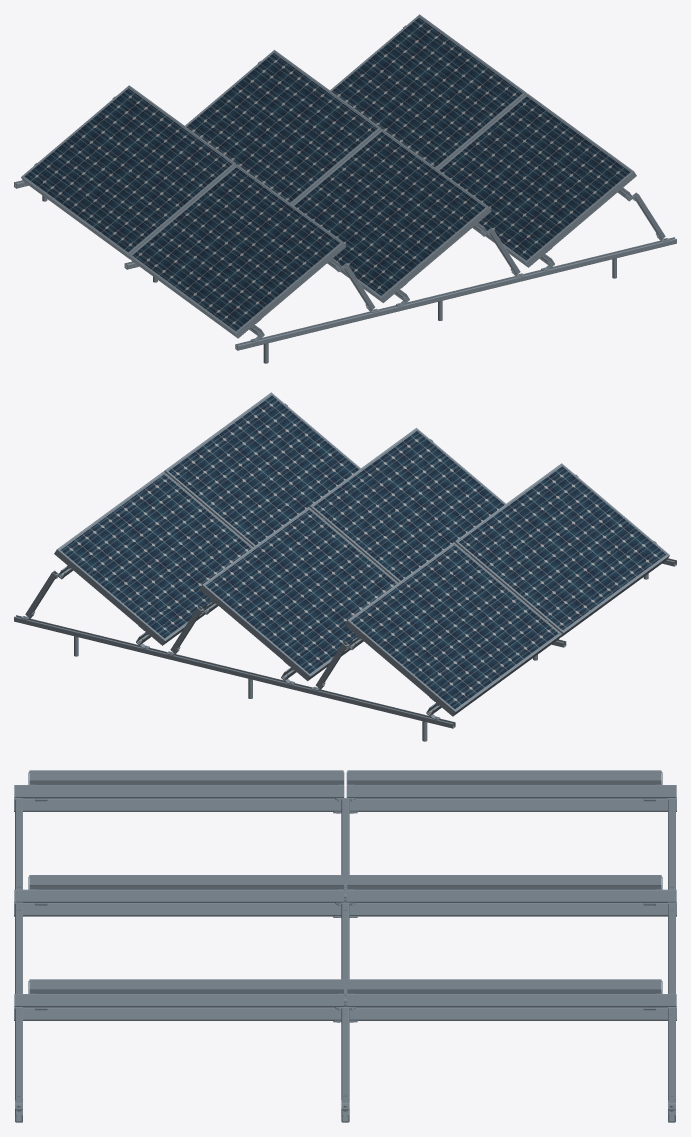
3 renders of one model, top to bottom at view 1: azimuth 30°, elevation 25°; view 2: azimuth 150°, elevation 25°; view 3: azimuth 270°, elevation 25°, orthographic. The views are drawn at different scales.
Parts seen in each view (by area): view 1: SolarPanels_0; view 2: SolarPanels_0; view 3: SolarPanels_0.
Boxes of the visible parts, x1=… form: SolarPanels_0: x1=14, y1=14, x2=676, y2=363; SolarPanels_0: x1=14, y1=392, x2=676, y2=741; SolarPanels_0: x1=14, y1=770, x2=676, y2=1122.
Size of the model in its own units: 3.84 by 0.8206 by 3.41.
2 materials, 2 textured.
